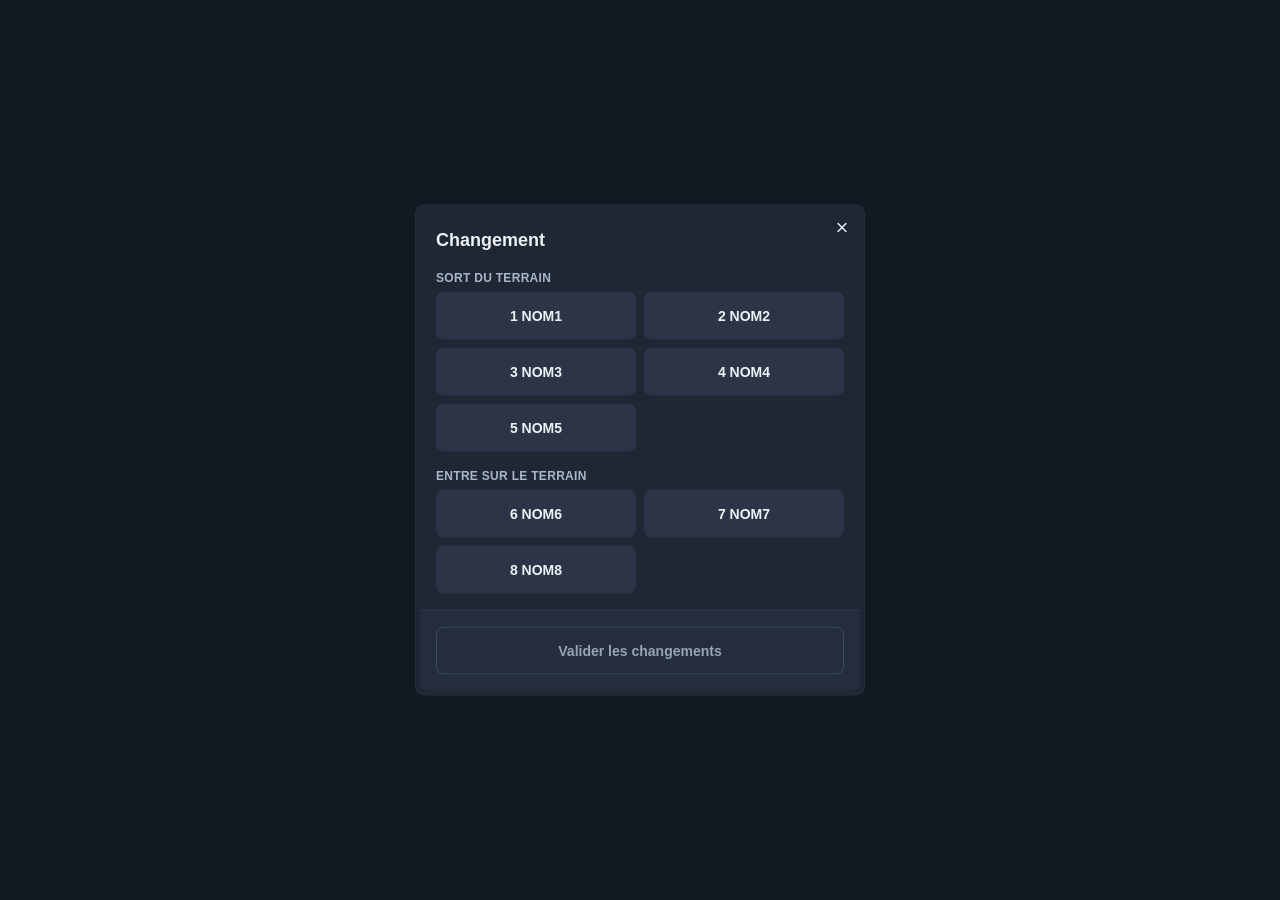
Scenario: SubstitutionDialog › keeps Validate greyed while the two sides do not balance
Expected: the button "Valider les changements" is disabled, [436, 626, 844, 674]
Click the button "1 NOM1" at (536, 316), box [436, 292, 636, 340]
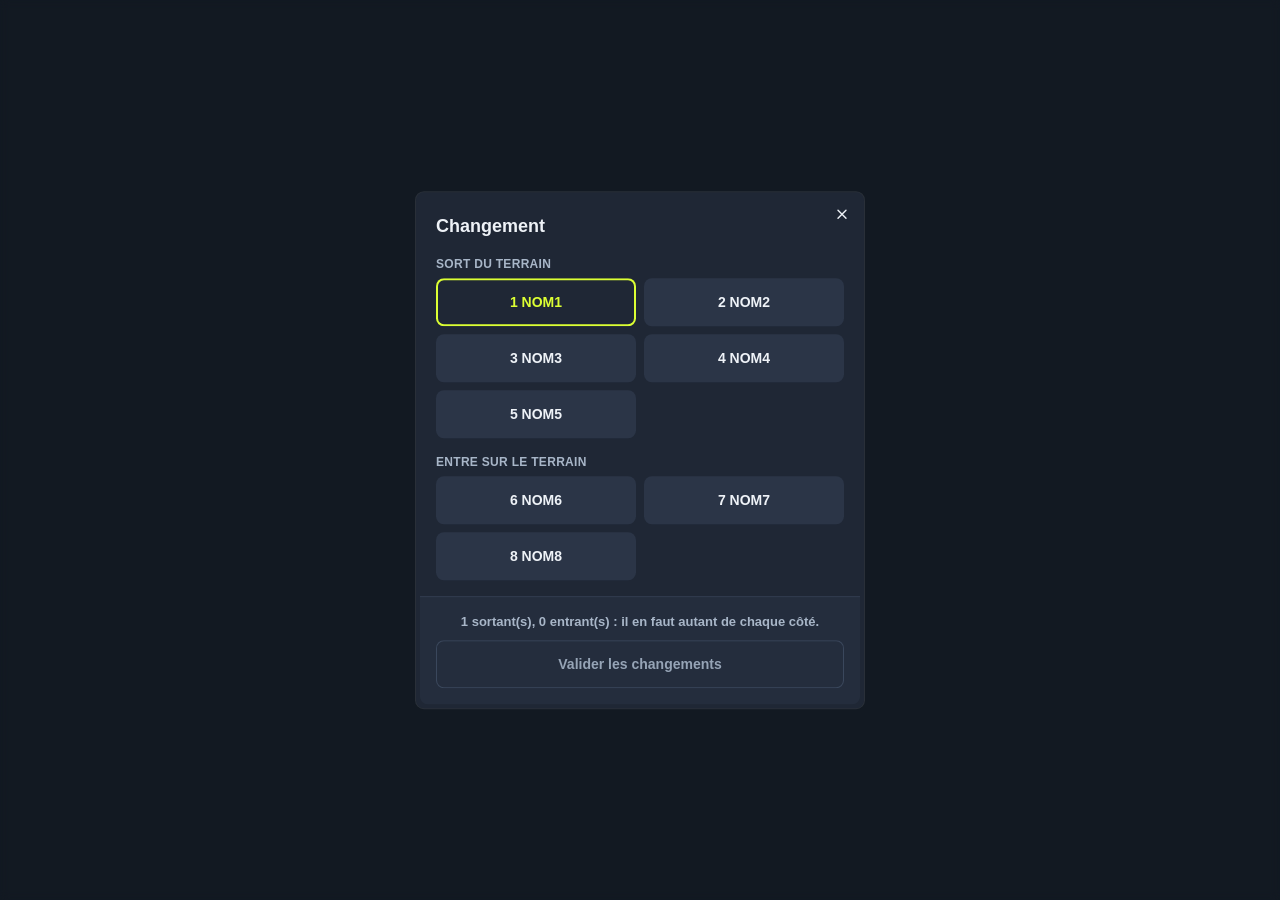
Click the button "2 NOM2" at (744, 302), box [644, 278, 844, 326]
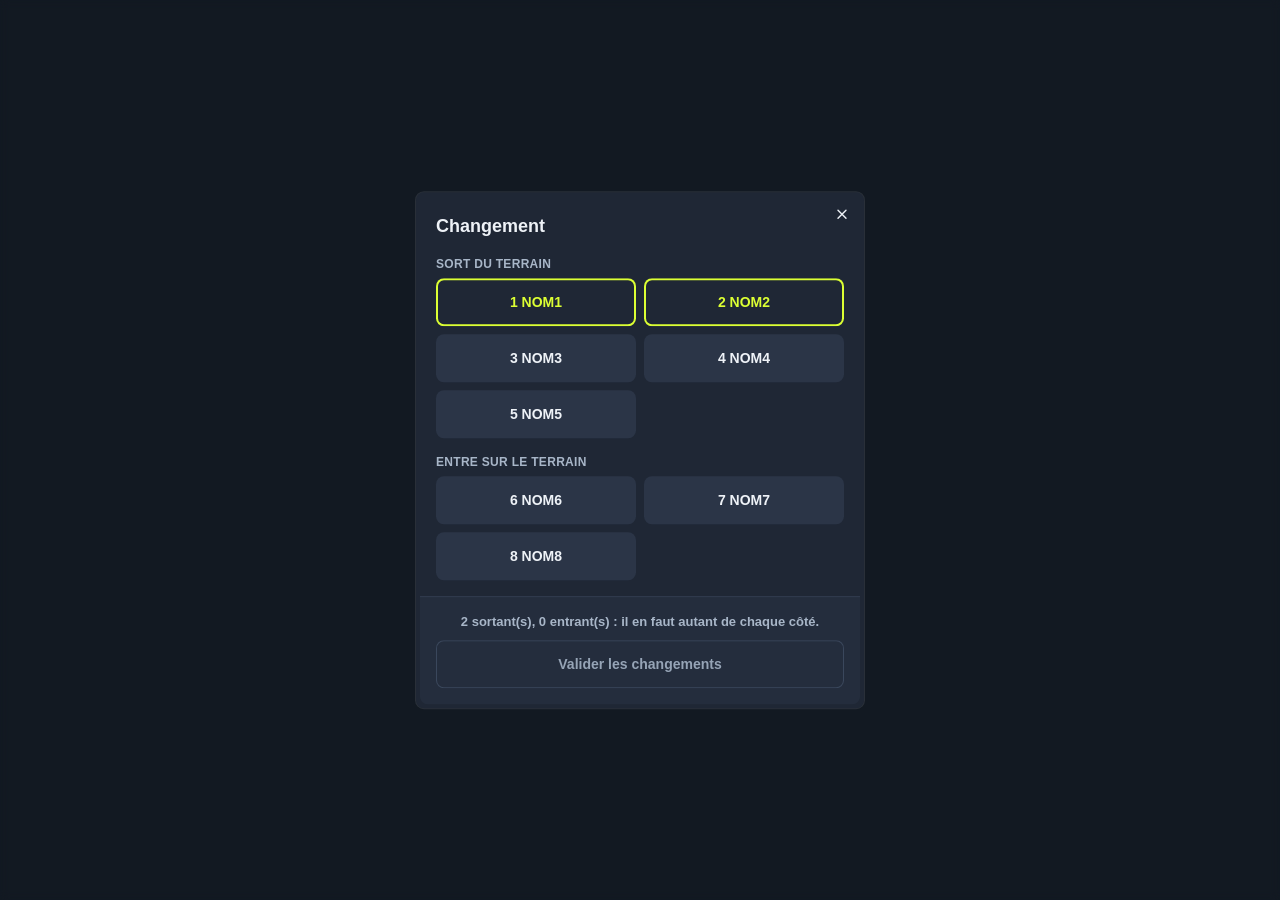
Click the button "6 NOM6" at (536, 500), box [436, 476, 636, 524]
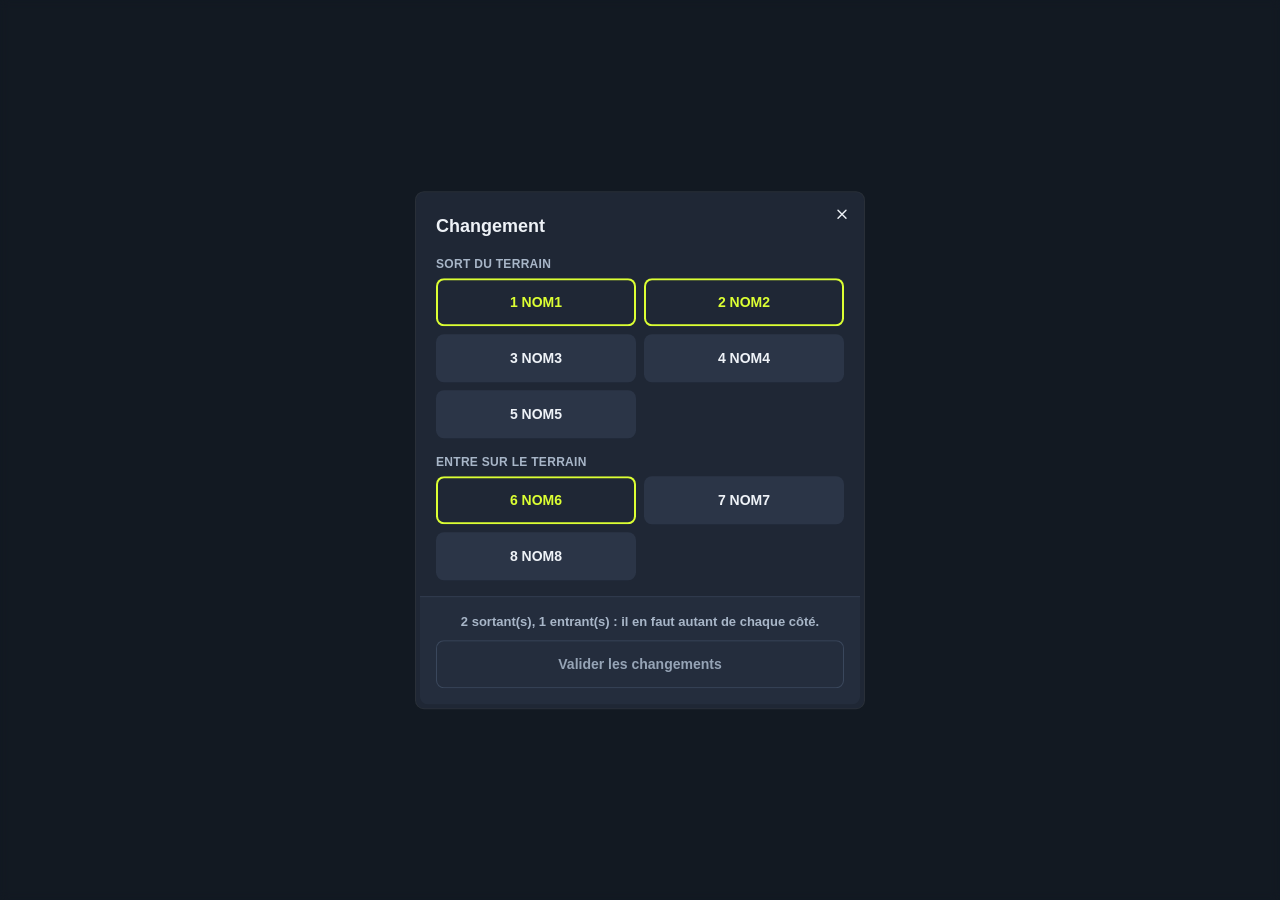
Click the button "7 NOM7" at (744, 500), box [644, 476, 844, 524]
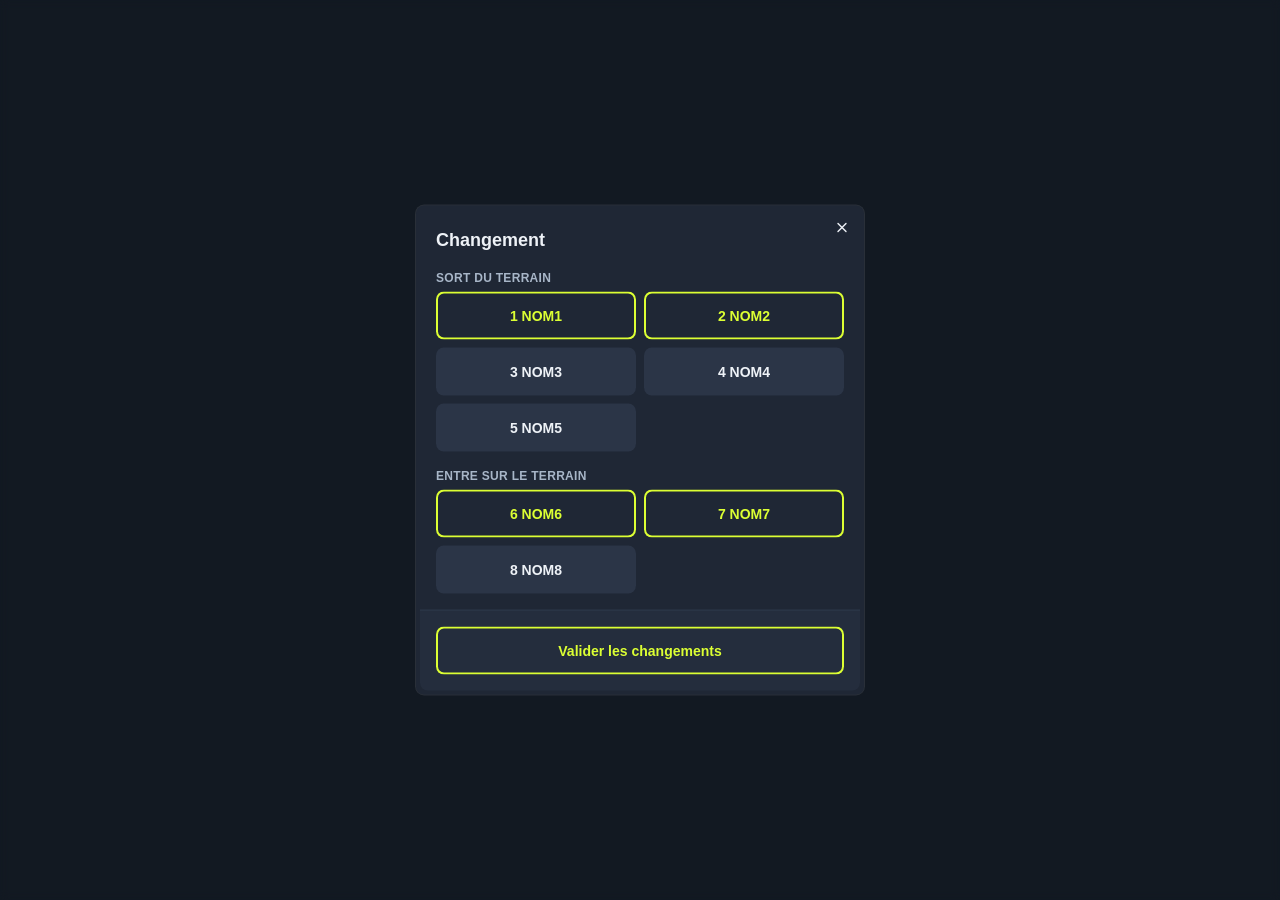
Click the button "8 NOM8" at (536, 570), box [436, 546, 636, 594]
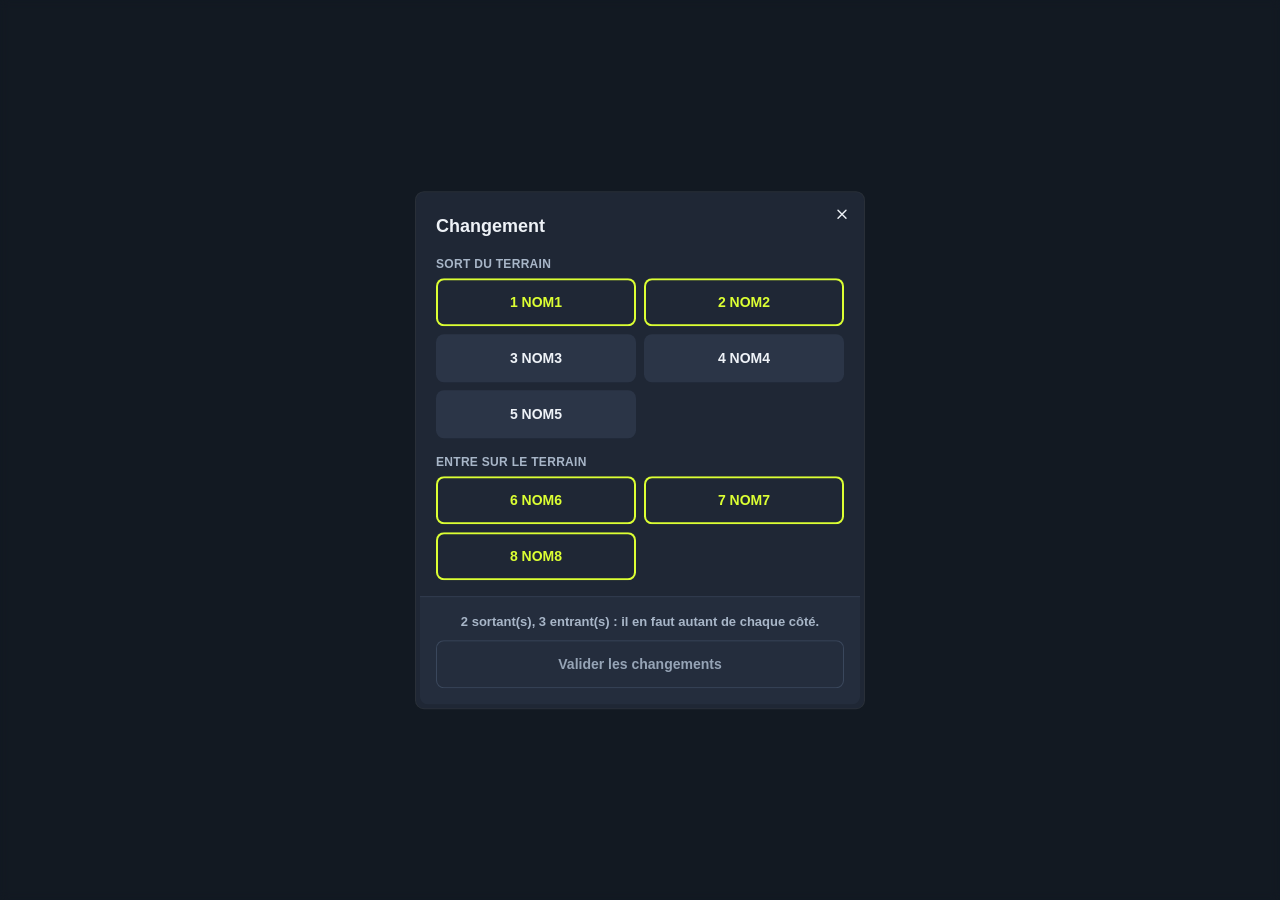
Expected: the button "Valider les changements" is disabled, [436, 640, 844, 688]
Expected: the message shows "2 sortant(s), 3 entrant(s)", [461, 614, 819, 629]
Click the button "8 NOM8" at (536, 556), box [436, 532, 636, 580]
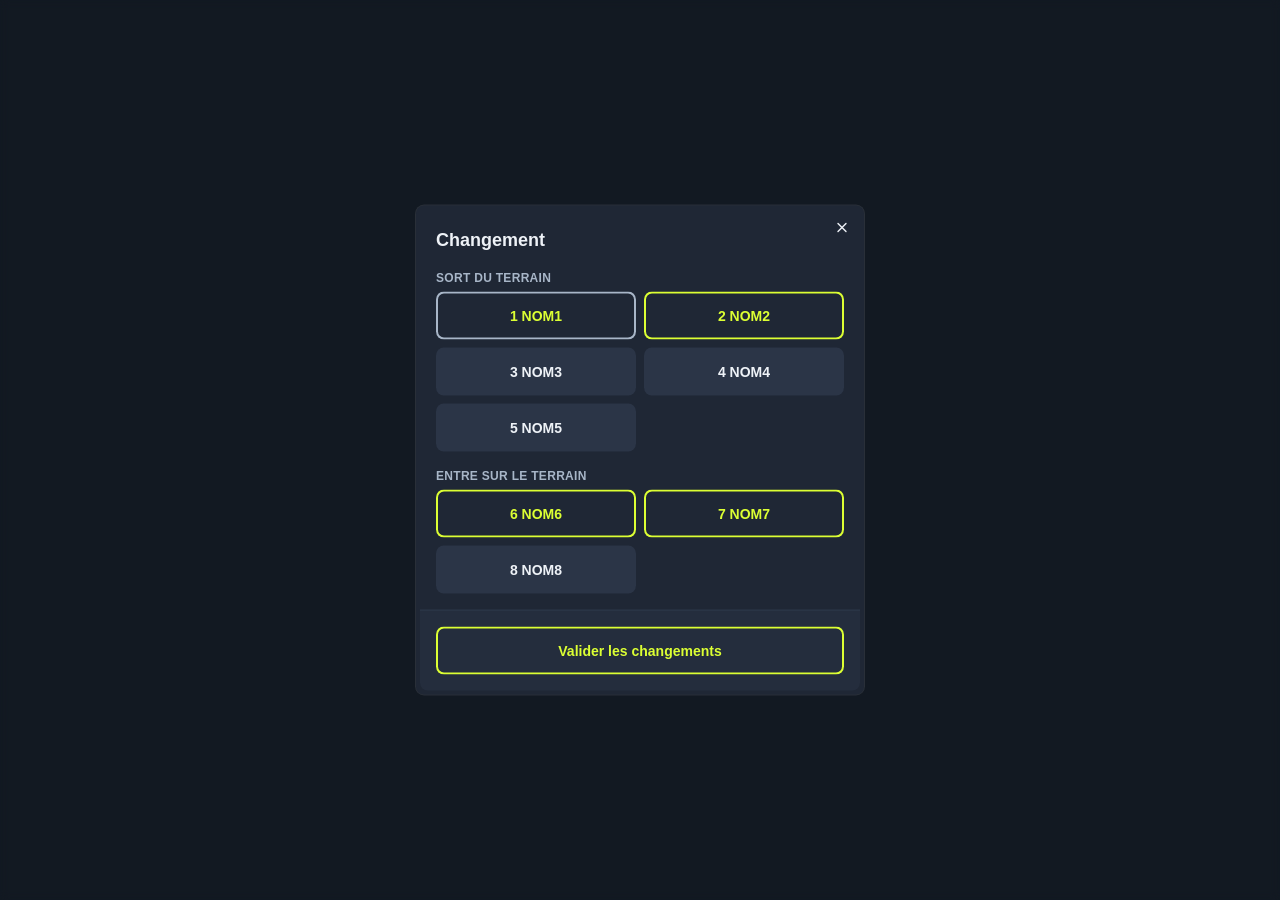
Expected: the button "Valider les changements" is enabled, [436, 626, 844, 674]
